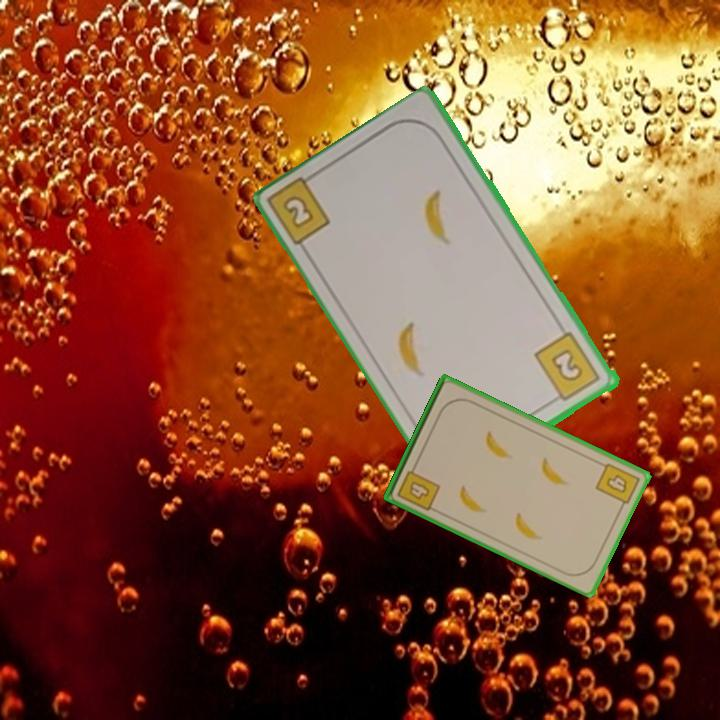2b: (531, 328, 604, 407), (267, 169, 334, 250)
4b: (592, 459, 643, 512), (394, 460, 443, 514)
